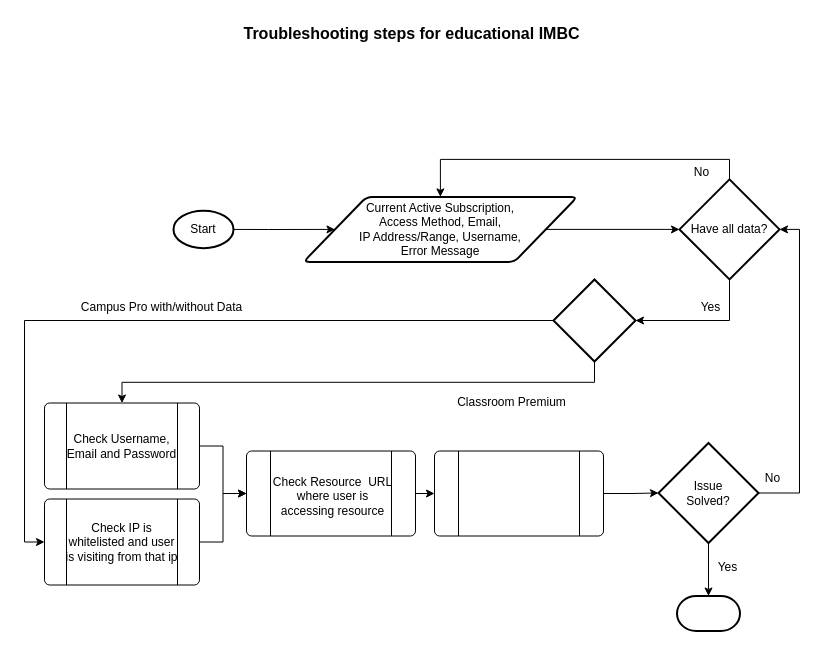
Image size: 825x649. Some labels were removed from this diagram. The centre of each missing label's shape, as x and y in pixels:
"Check If page is not cached" belongs at (x=519, y=493).
"Subscription" belongs at (x=594, y=320).
"Terminate" belongs at (x=708, y=613).
